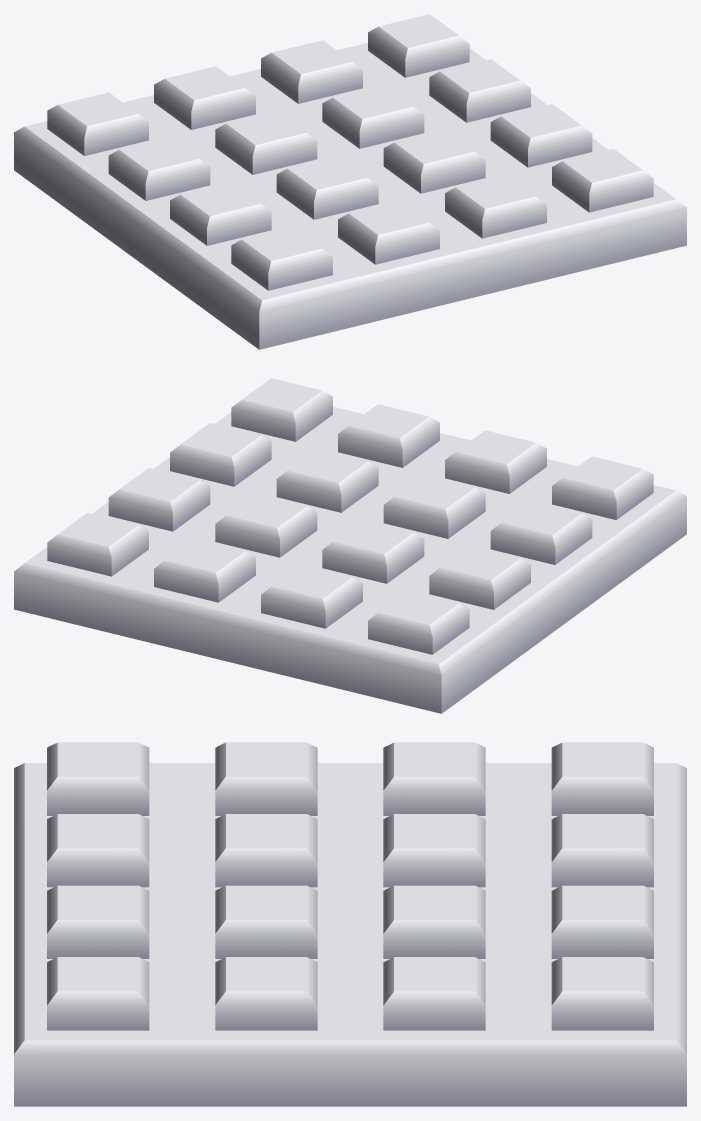
File: square-hq-plate-4x4.glb
3 renders of one model, top to bottom at view 1: azimuth 30°, elevation 25°; view 2: azimuth 150°, elevation 25°; view 3: azimuth 270°, elevation 25°, orthographic. The views are drawn at different scales.
Parts seen in each view (by area): view 1: square-hq-plate-4x4; view 2: square-hq-plate-4x4; view 3: square-hq-plate-4x4.
Part boxes in pixels (x1,y1,x2,y2): square-hq-plate-4x4: (14,14,686,349); square-hq-plate-4x4: (14,378,686,713); square-hq-plate-4x4: (14,742,686,1106).
Bounding box in the file's own units: 0.318 × 0.05 × 0.316.
1 material, 1 textured.
